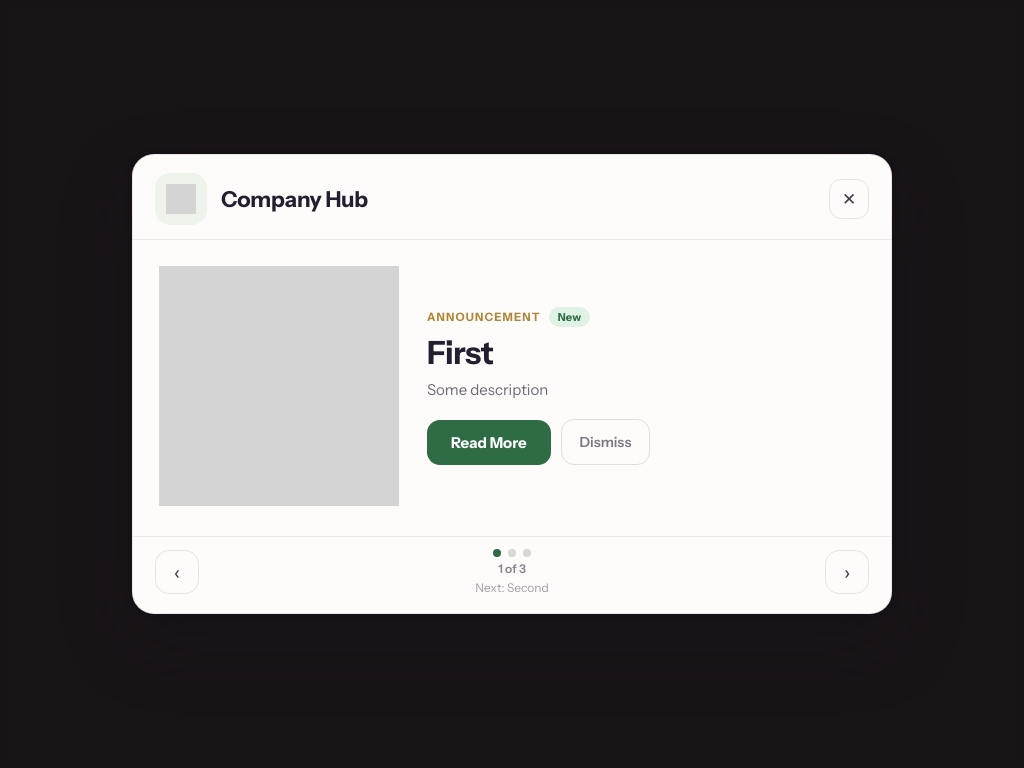
CompanyHub › the carousel pages through every visible item and wraps
This screenshot has width=1024, height=768.
Expected: the text "1 of 3" is shown, [498, 561, 526, 576]
Expected: the heading "First" is shown, [427, 335, 493, 371]
Click the button named "Next item" at (847, 572), box [825, 550, 869, 594]
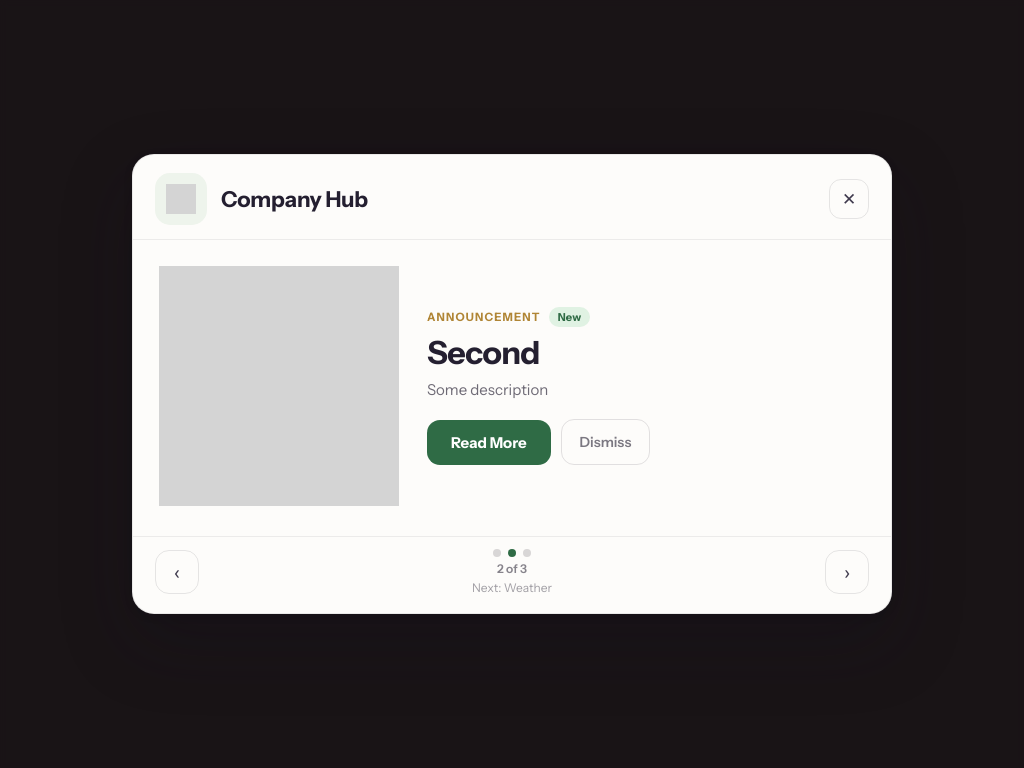
Result: the heading "Second" is shown at [427, 335, 540, 371]
Result: the text "2 of 3" is shown at [497, 561, 527, 576]
Note: Third slide is weather — reached by the same arrow, part of the same rotation.
Click the button named "Next item" at (847, 572), box [825, 550, 869, 594]
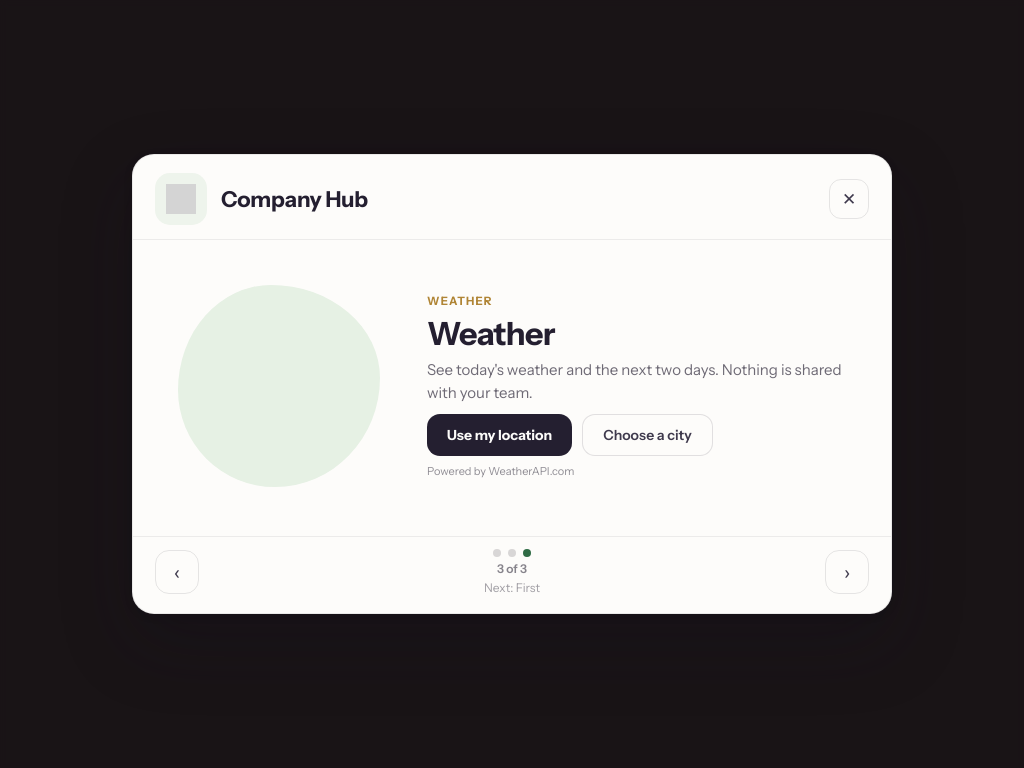
Result: the element named "Weather forecast" is shown at [155, 244, 869, 528]
Result: the text "3 of 3" is shown at [497, 561, 527, 576]
Note: Wraps forward past it, back to the first item, and the dots jump directly.
Click the button named "Next item" at (847, 572), box [825, 550, 869, 594]
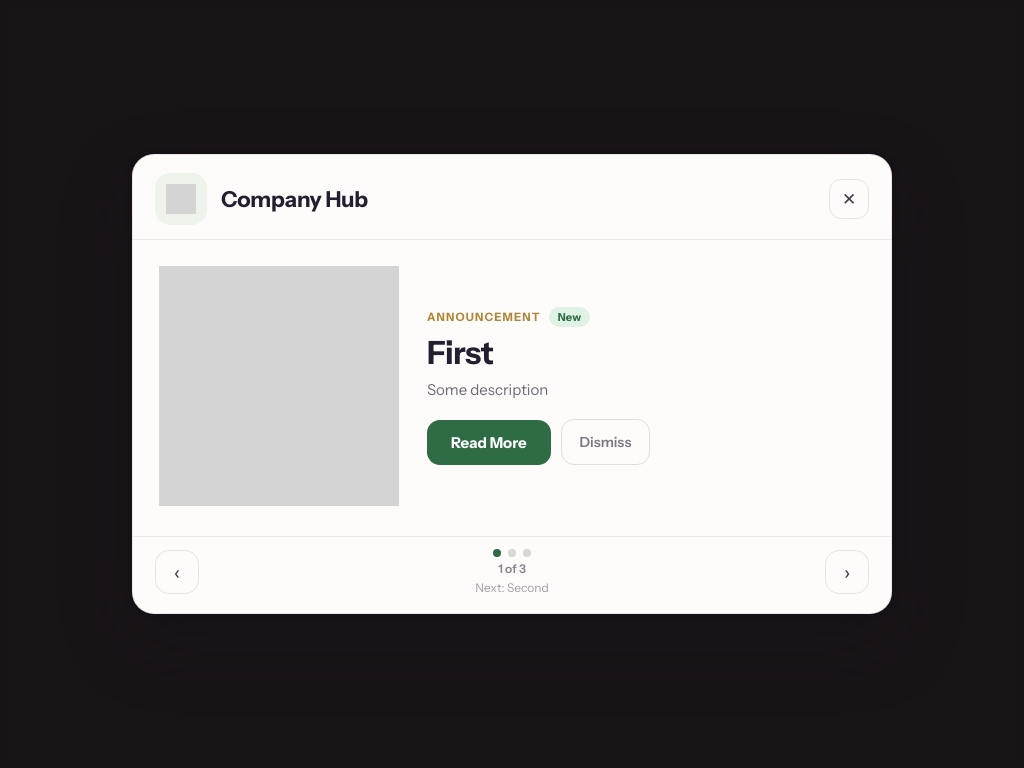
Result: the heading "First" is shown at [427, 335, 493, 371]
Click the tab named "Item 2 of 3" at (512, 553), box [508, 549, 516, 557]
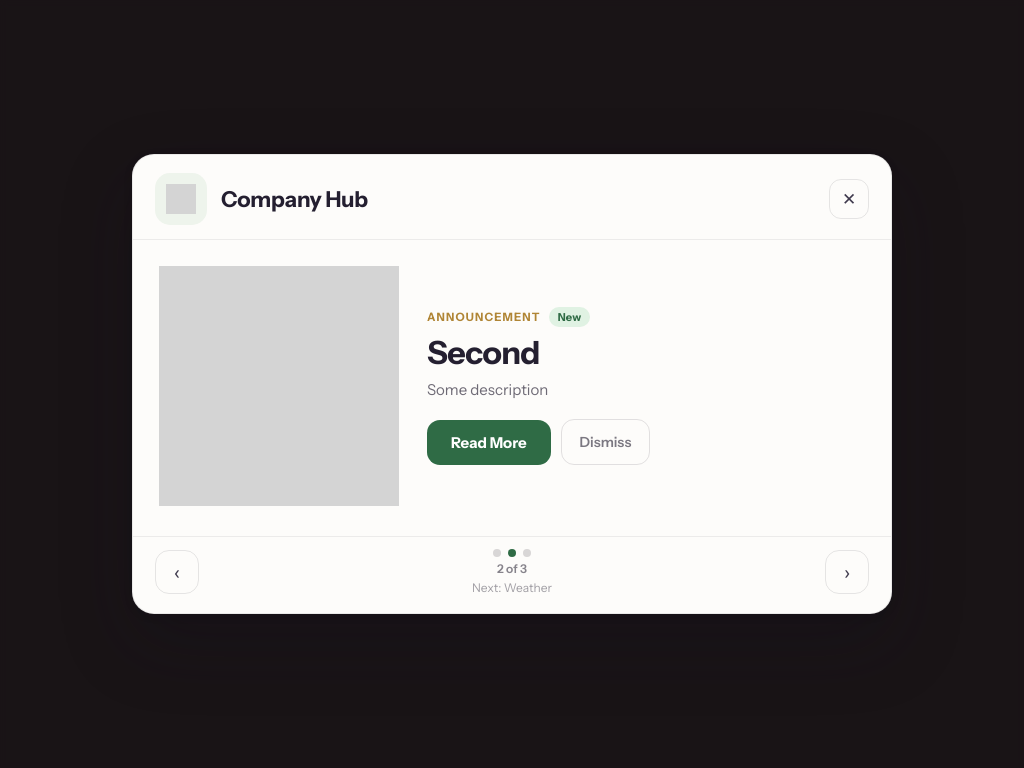
Result: the heading "Second" is shown at [427, 335, 540, 371]
Note: Wraps backward too.
Click the button named "Previous item" at (177, 572), box [155, 550, 199, 594]
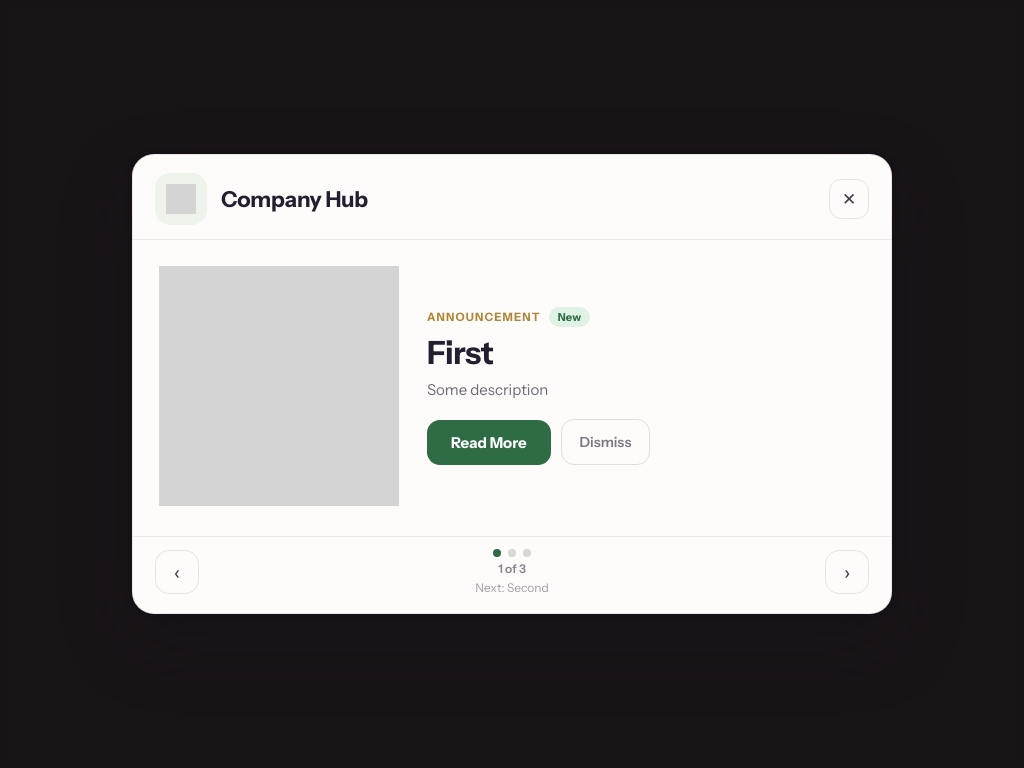
Result: the heading "First" is shown at [427, 335, 493, 371]
